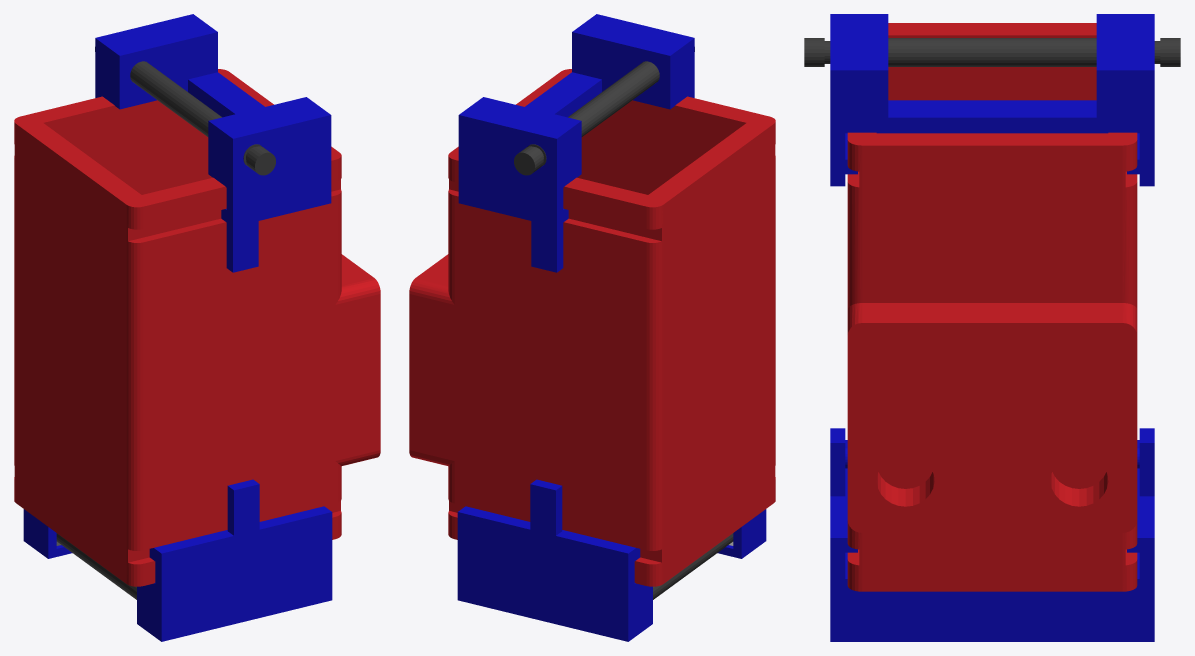
The model's file is kada.obj.
3 renders of one model, left to right at view 1: azimuth 30°, elevation 25°; view 2: azimuth 150°, elevation 25°; view 3: azimuth 270°, elevation 25°, orthographic. The views are drawn at different scales.
Visible parts, largest first — view 1: Shape_IndexedFaceSet, Shape_IndexedFaceSet.005, Shape_IndexedFaceSet.007; view 2: Shape_IndexedFaceSet, Shape_IndexedFaceSet.005, Shape_IndexedFaceSet.007; view 3: Shape_IndexedFaceSet, Shape_IndexedFaceSet.005, Shape_IndexedFaceSet.007.
Part boxes in pixels (bbox=[...]): Shape_IndexedFaceSet: bbox=[14, 69, 380, 586]; Shape_IndexedFaceSet.005: bbox=[23, 14, 332, 641]; Shape_IndexedFaceSet.007: bbox=[56, 47, 275, 599]; Shape_IndexedFaceSet: bbox=[409, 69, 775, 586]; Shape_IndexedFaceSet.005: bbox=[457, 14, 766, 641]; Shape_IndexedFaceSet.007: bbox=[514, 47, 733, 599]; Shape_IndexedFaceSet: bbox=[847, 23, 1137, 591]; Shape_IndexedFaceSet.005: bbox=[830, 14, 1154, 641]; Shape_IndexedFaceSet.007: bbox=[804, 38, 1180, 66].
Bounding box in the file's own units: 58.15 × 109 × 65.
